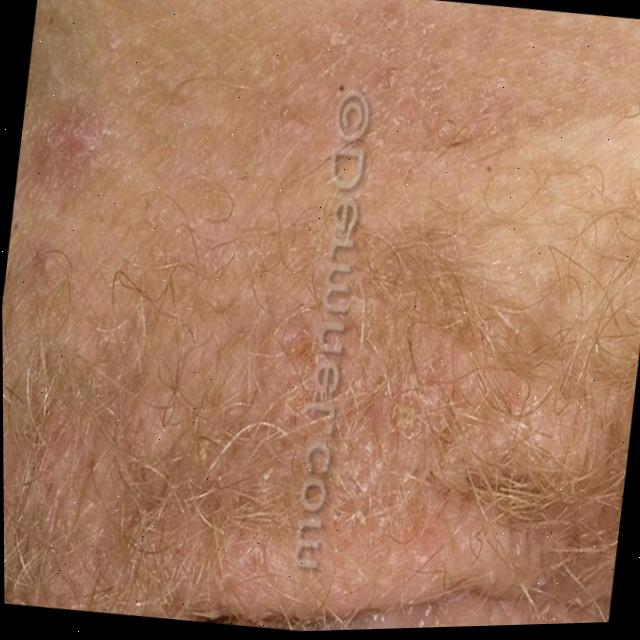Eczema: (7, 52, 640, 633)
